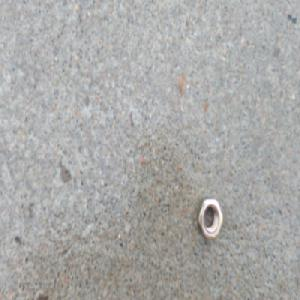Nut: (197, 195, 224, 240)
